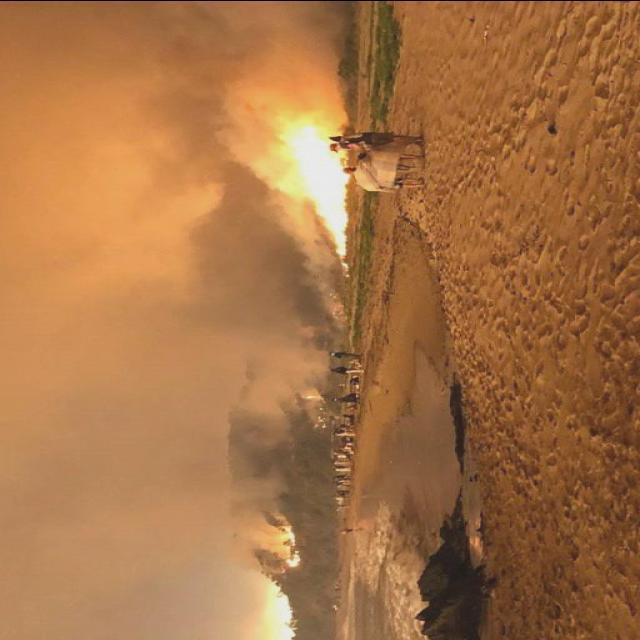Fire: (286, 122, 355, 274), (276, 522, 296, 544), (284, 552, 302, 568), (300, 391, 321, 403)
